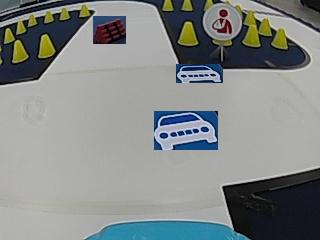cone: (177, 21, 199, 46), (37, 34, 55, 58), (243, 23, 260, 47), (12, 40, 29, 62), (272, 27, 288, 49), (259, 18, 271, 35), (78, 4, 90, 17), (4, 28, 15, 42), (59, 7, 70, 20), (16, 20, 27, 33), (43, 10, 54, 23), (181, 0, 193, 11), (162, 0, 173, 11), (27, 14, 38, 25)
patient: (209, 3, 241, 34)
